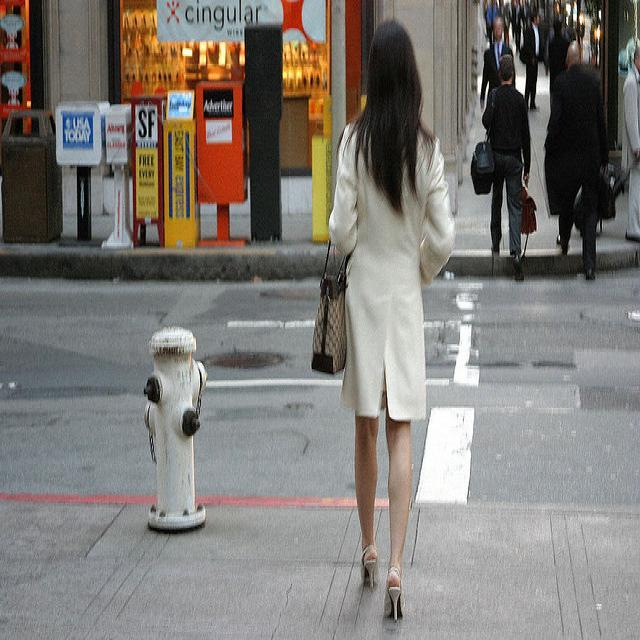fire_hydrant: (145, 326, 207, 532)
